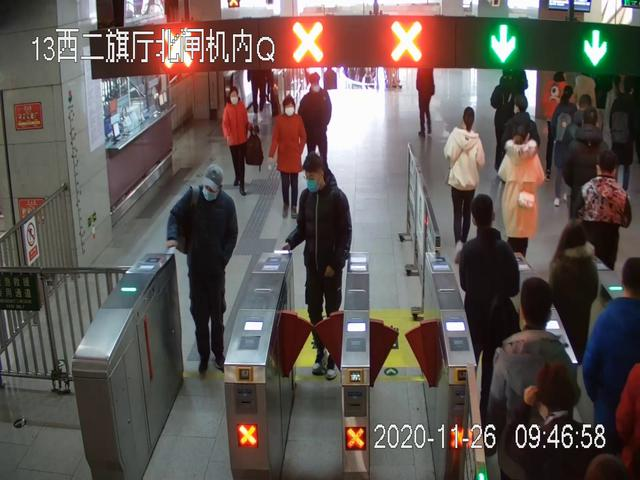person: (488, 278, 581, 480), (283, 154, 351, 382), (457, 195, 521, 415), (168, 164, 233, 378), (570, 154, 633, 317), (552, 226, 598, 390), (495, 127, 546, 273), (443, 107, 485, 261), (269, 97, 308, 218), (222, 88, 263, 196), (548, 84, 579, 210), (299, 74, 332, 168), (416, 66, 438, 140)
